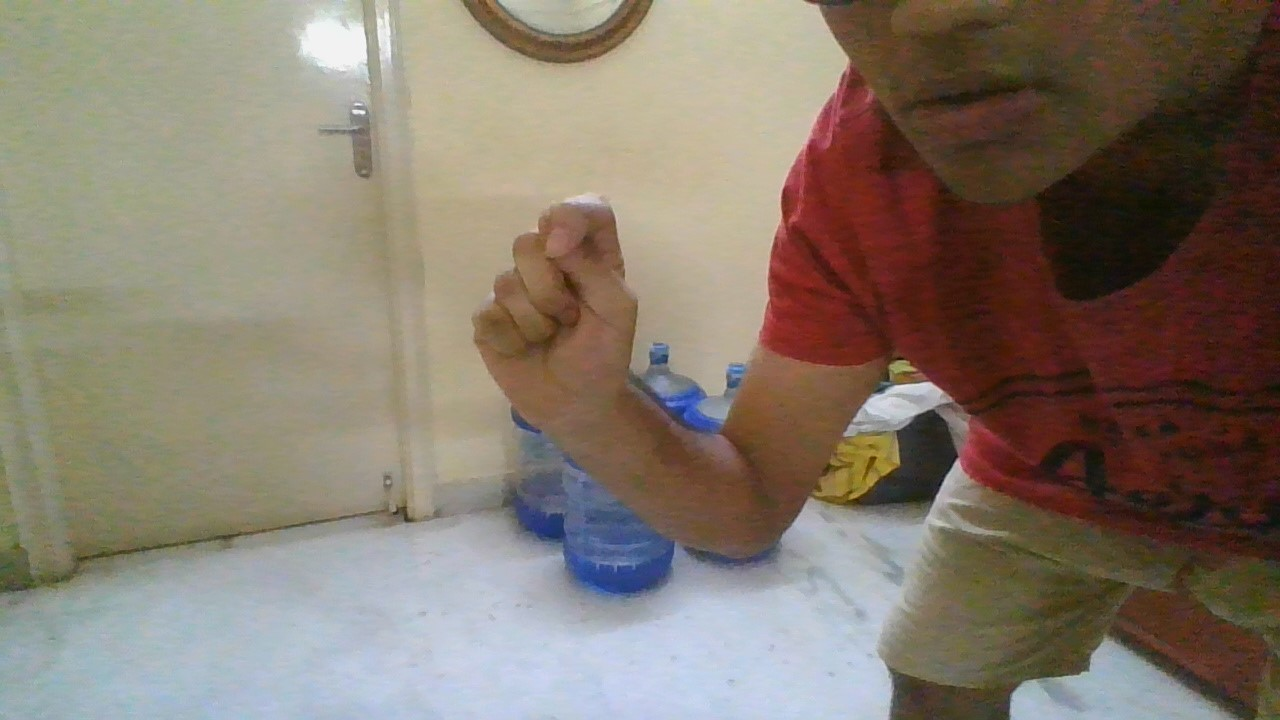t: (464, 189, 647, 432)
